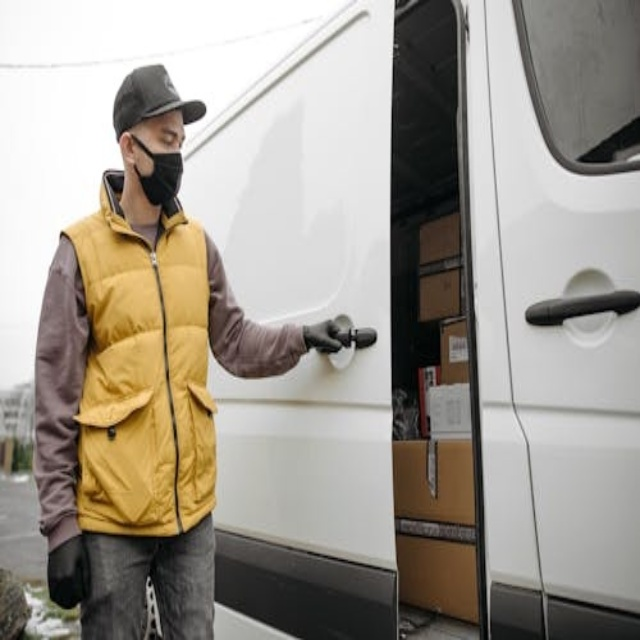Guantes: (48, 536, 90, 609), (302, 318, 346, 354)
Mascara: (128, 136, 184, 208)
Sin_gafas: (142, 115, 189, 155)
